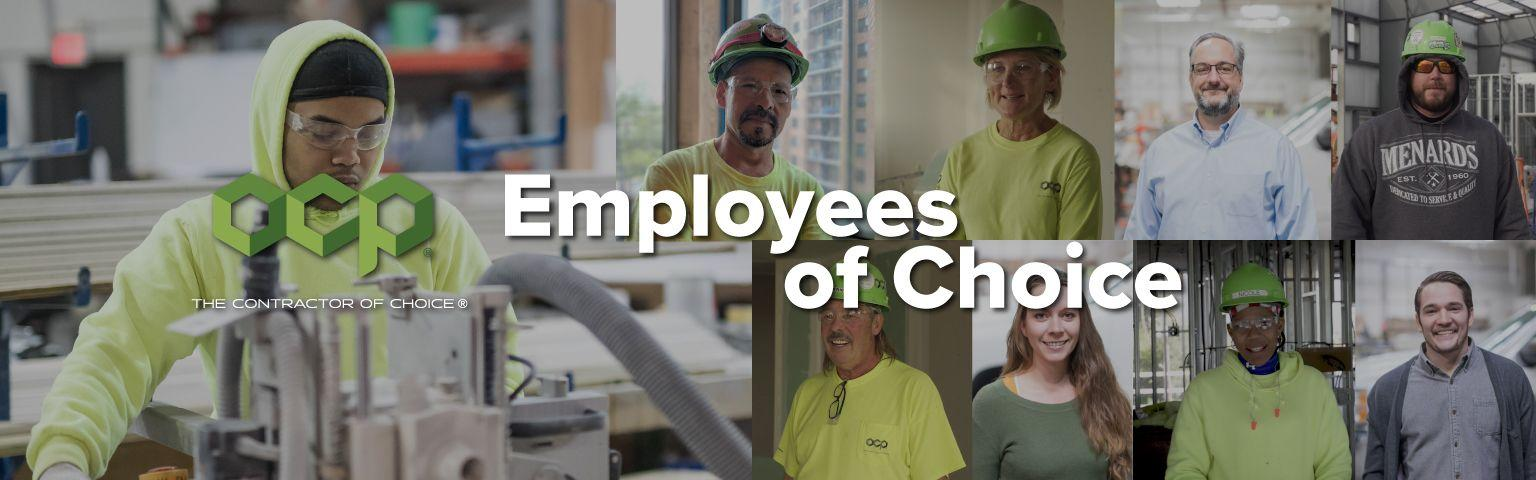helmet: (267, 21, 395, 118), (706, 19, 822, 85), (975, 1, 1074, 65), (1395, 19, 1475, 68), (1220, 263, 1291, 312), (821, 261, 892, 308)
